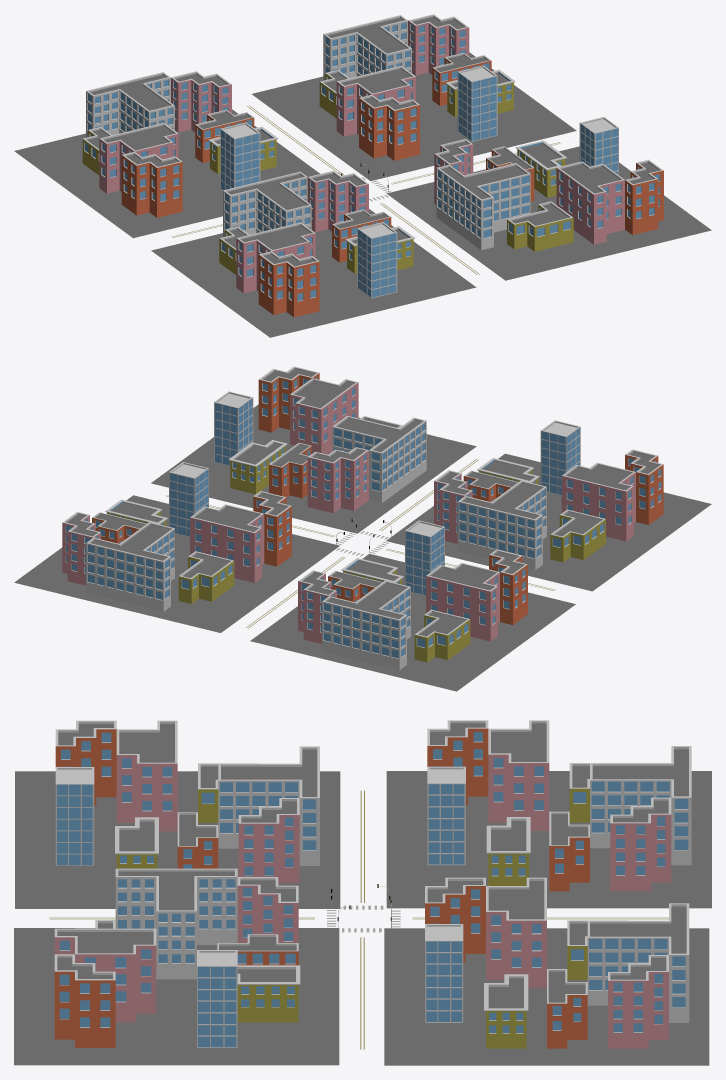
File: int-test-17.fbx
3 views of the same model, one above another, from view 1: azimuth 30°, elevation 25°; view 2: azimuth 150°, elevation 25°; view 3: azimuth 270°, elevation 25° (orthographic). The views are drawn at different scales.
Visible parts, largest first — view 1: City.002, City, City.003, City.001; view 2: City.001, City, City.003, City.002; view 3: City.003, City, City.001, City.002.
Part boxes in pixels (left/top/right/bottom): City.002: left=151, top=171, right=476, bottom=337; City: left=252, top=14, right=576, bottom=181; City.003: left=386, top=117, right=711, bottom=280; City.001: left=14, top=71, right=319, bottom=238; City.001: left=250, top=520, right=575, bottom=691; City: left=14, top=462, right=339, bottom=632; City.003: left=151, top=366, right=476, bottom=533; City.002: left=386, top=420, right=711, bottom=591; City.003: left=14, top=868, right=339, bottom=1065; City: left=384, top=877, right=709, bottom=1065; City.001: left=386, top=720, right=711, bottom=908; City.002: left=15, top=720, right=340, bottom=908.
Size of what is drawn, in the model's own units: 225 by 29.15 by 225.
